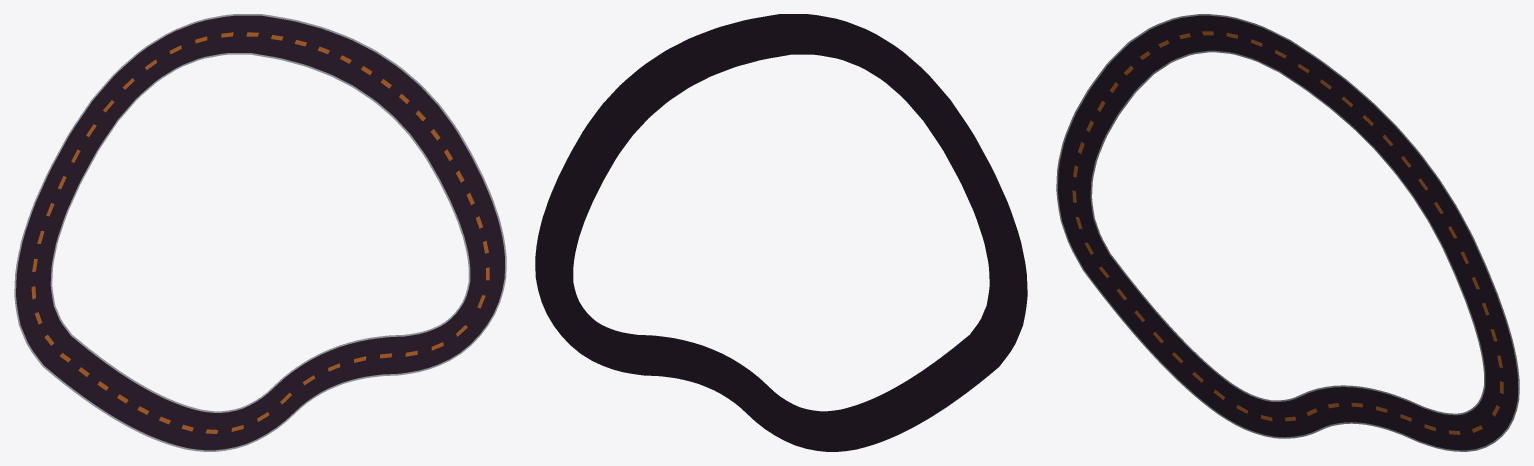
The model's file is track.obj.
3 renders of one model, left to right at view 1: azimuth 30°, elevation 25°; view 2: azimuth 150°, elevation 25°; view 3: azimuth 330°, elevation 25°, orthographic. The views are drawn at different scales.
Size of the model in its own units: 12.3 by 10.44 by 0.002.
3 materials, 3 textured.
